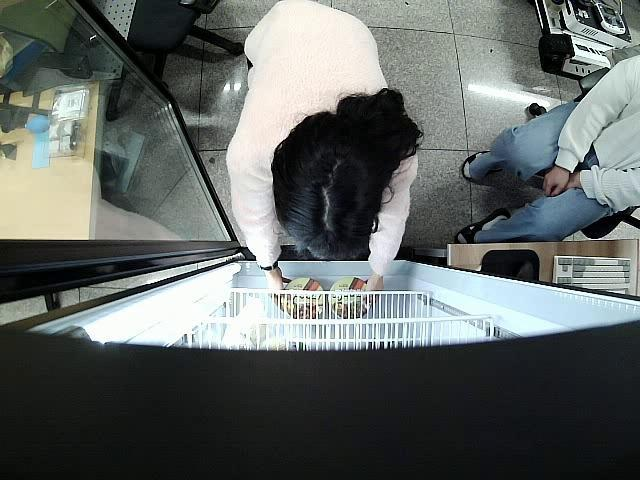03_chapagetti_L: (278, 275, 324, 318), (330, 277, 369, 318)
